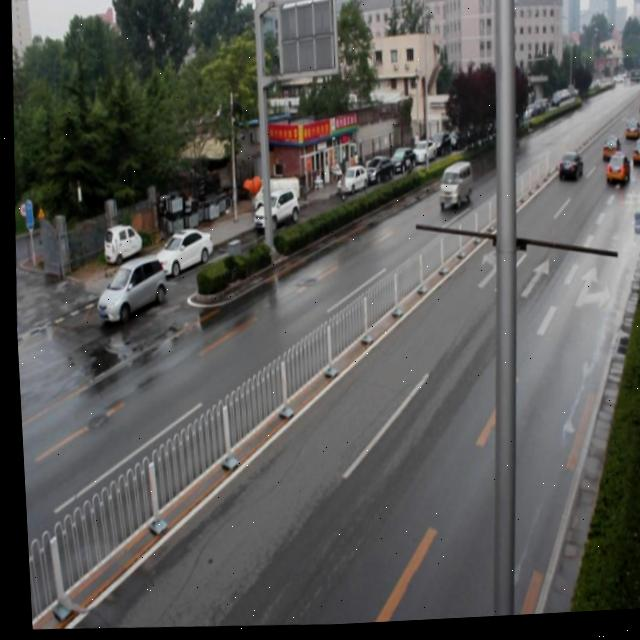car: (600, 157, 627, 193), (552, 154, 579, 183), (595, 140, 616, 167), (627, 143, 640, 172)
truck: (433, 162, 472, 216)
